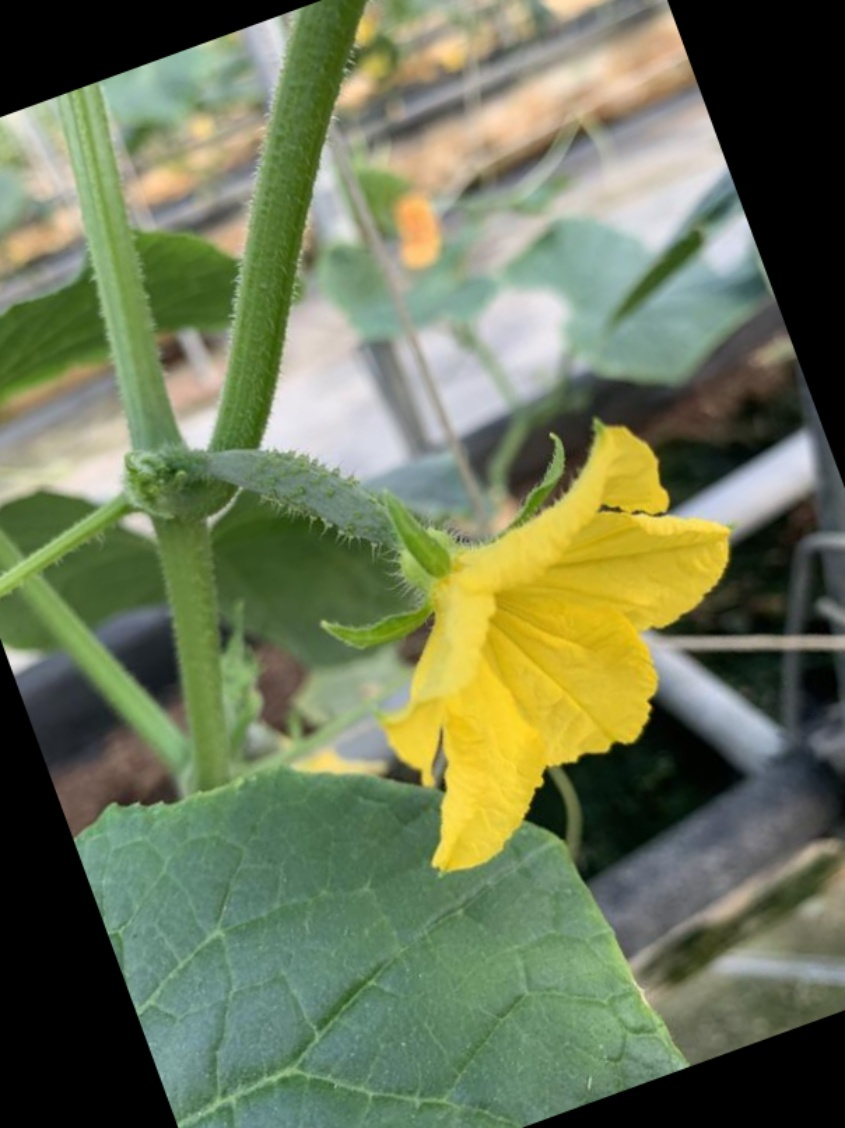flowering: (219, 404, 730, 871)
